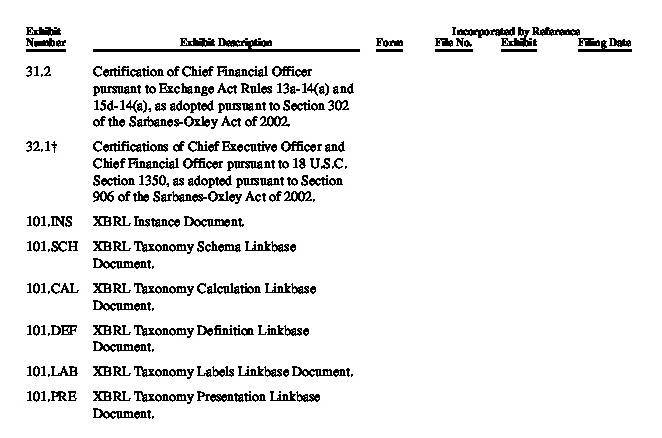table: (0, 0, 662, 438)
